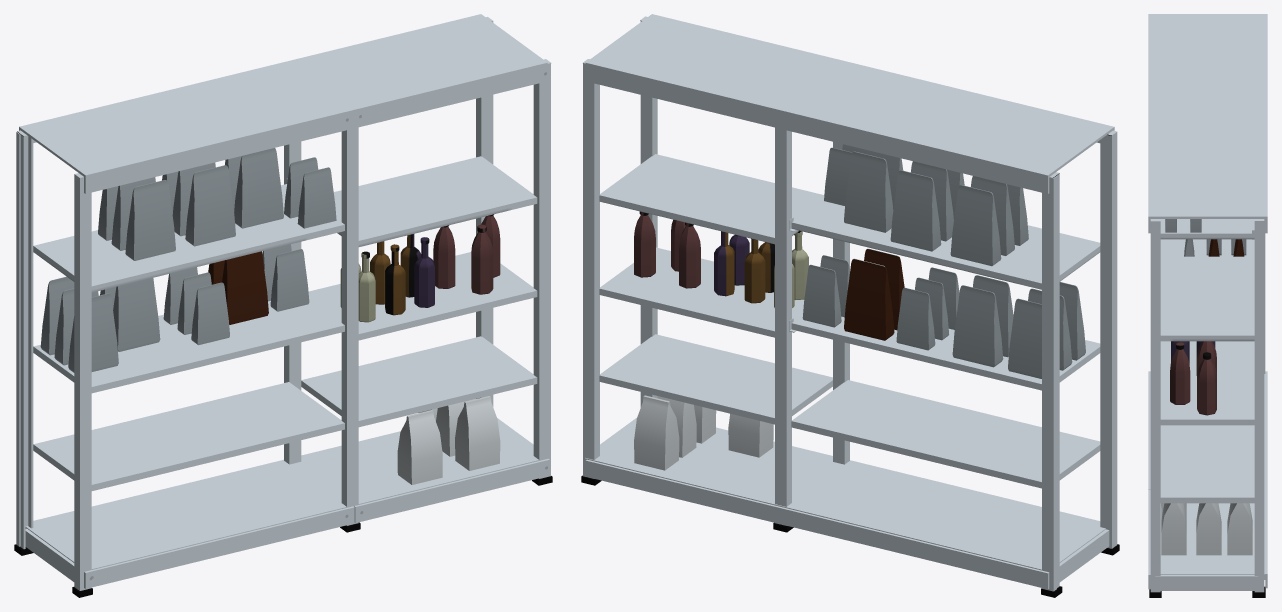
File: LC_3088_Shelf_LOD1.fbx
3 views of the same model, side by side, from view 1: azimuth 30°, elevation 25°; view 2: azimuth 150°, elevation 25°; view 3: azimuth 270°, elevation 25° (orthographic). The views are drawn at different scales.
Parts seen in each view (by area): view 1: LC_3088_S_LOD1; view 2: LC_3088_S_LOD1; view 3: LC_3088_S_LOD1.
Part boxes in pixels (box(x1,y1,x2,y2)): LC_3088_S_LOD1: box(14, 14, 552, 597); LC_3088_S_LOD1: box(581, 14, 1119, 597); LC_3088_S_LOD1: box(1148, 14, 1267, 597).
Size of the model in its own units: 216 by 183 by 52.43.
Materials: 1 (1 with a texture image).
